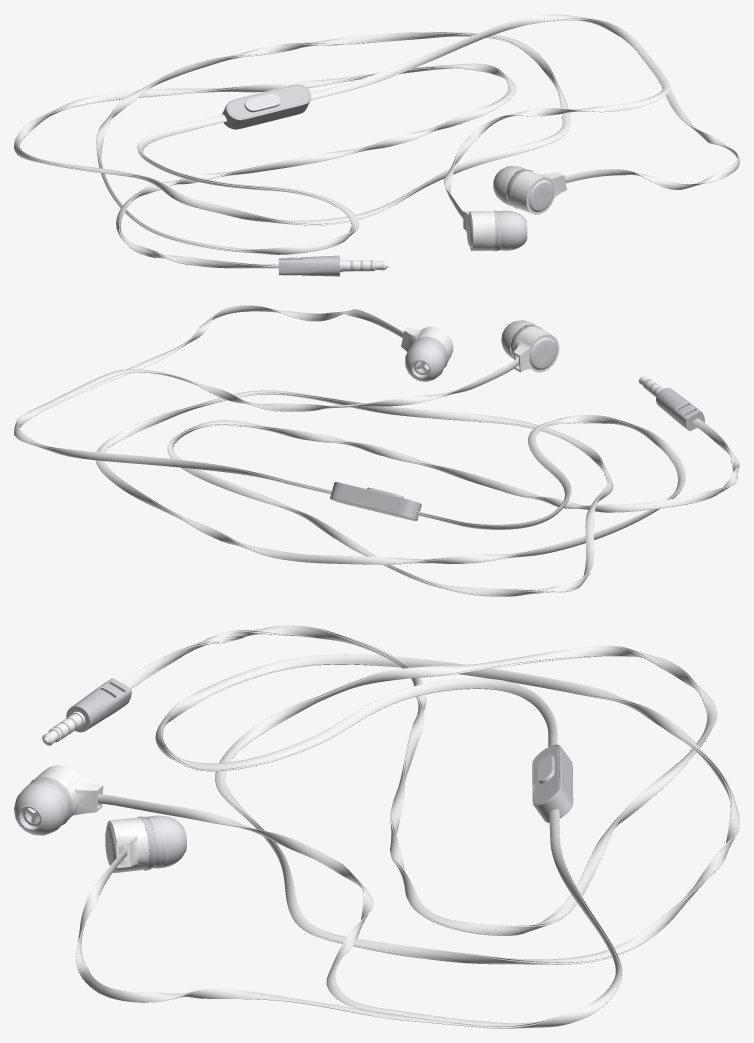
Rendered from wired_earphones.glb.
3 renders of one model, top to bottom at view 1: azimuth 30°, elevation 25°; view 2: azimuth 150°, elevation 25°; view 3: azimuth 270°, elevation 25°, orthographic. The views are drawn at different scales.
Visible parts, largest first — view 1: Earphone; view 2: Earphone; view 3: Earphone.
Part boxes in pixels (x1=…): Earphone: x1=14, y1=14, x2=739, y2=276; Earphone: x1=14, y1=305, x2=739, y2=596; Earphone: x1=14, y1=625, x2=739, y2=1028.
Size of the model in its own units: 0.1417 by 0.00839 by 0.1117.
1 material, 1 textured.
